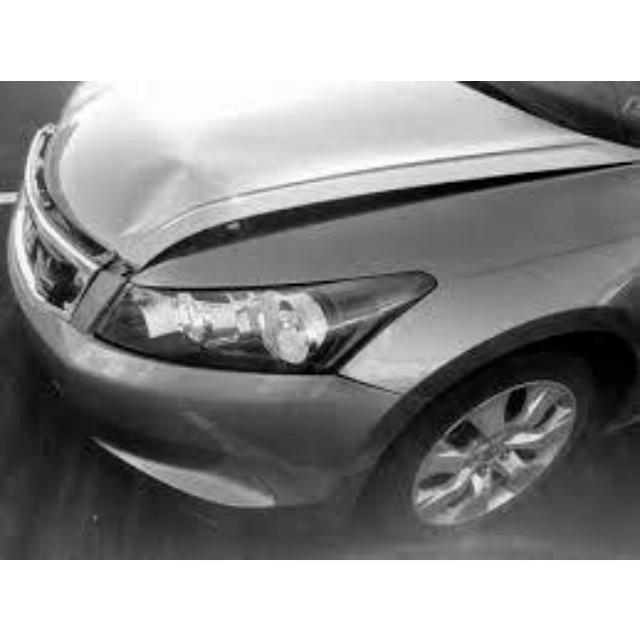bonnet-dent: (45, 88, 437, 253)
front-bumper-dent: (110, 362, 371, 522)
